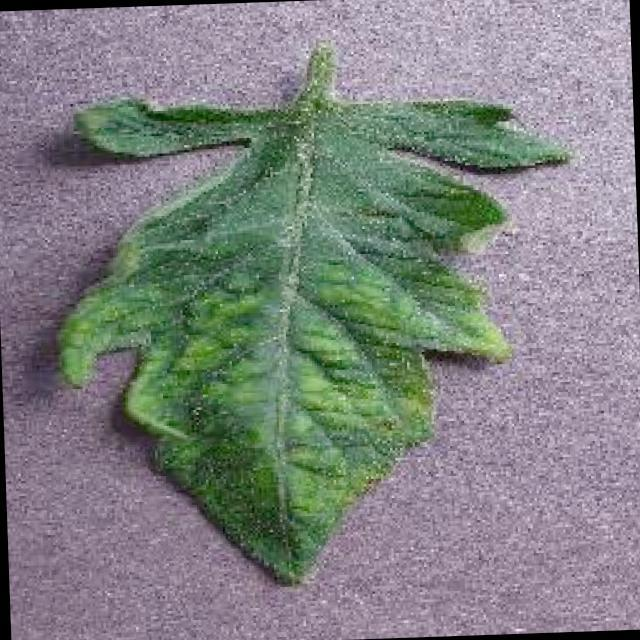Tomato mosaic virus leaf: (46, 75, 592, 608)
